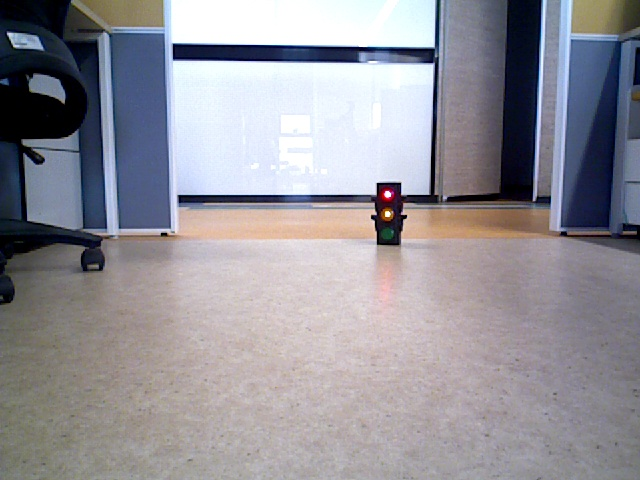red: (376, 182, 399, 241)
